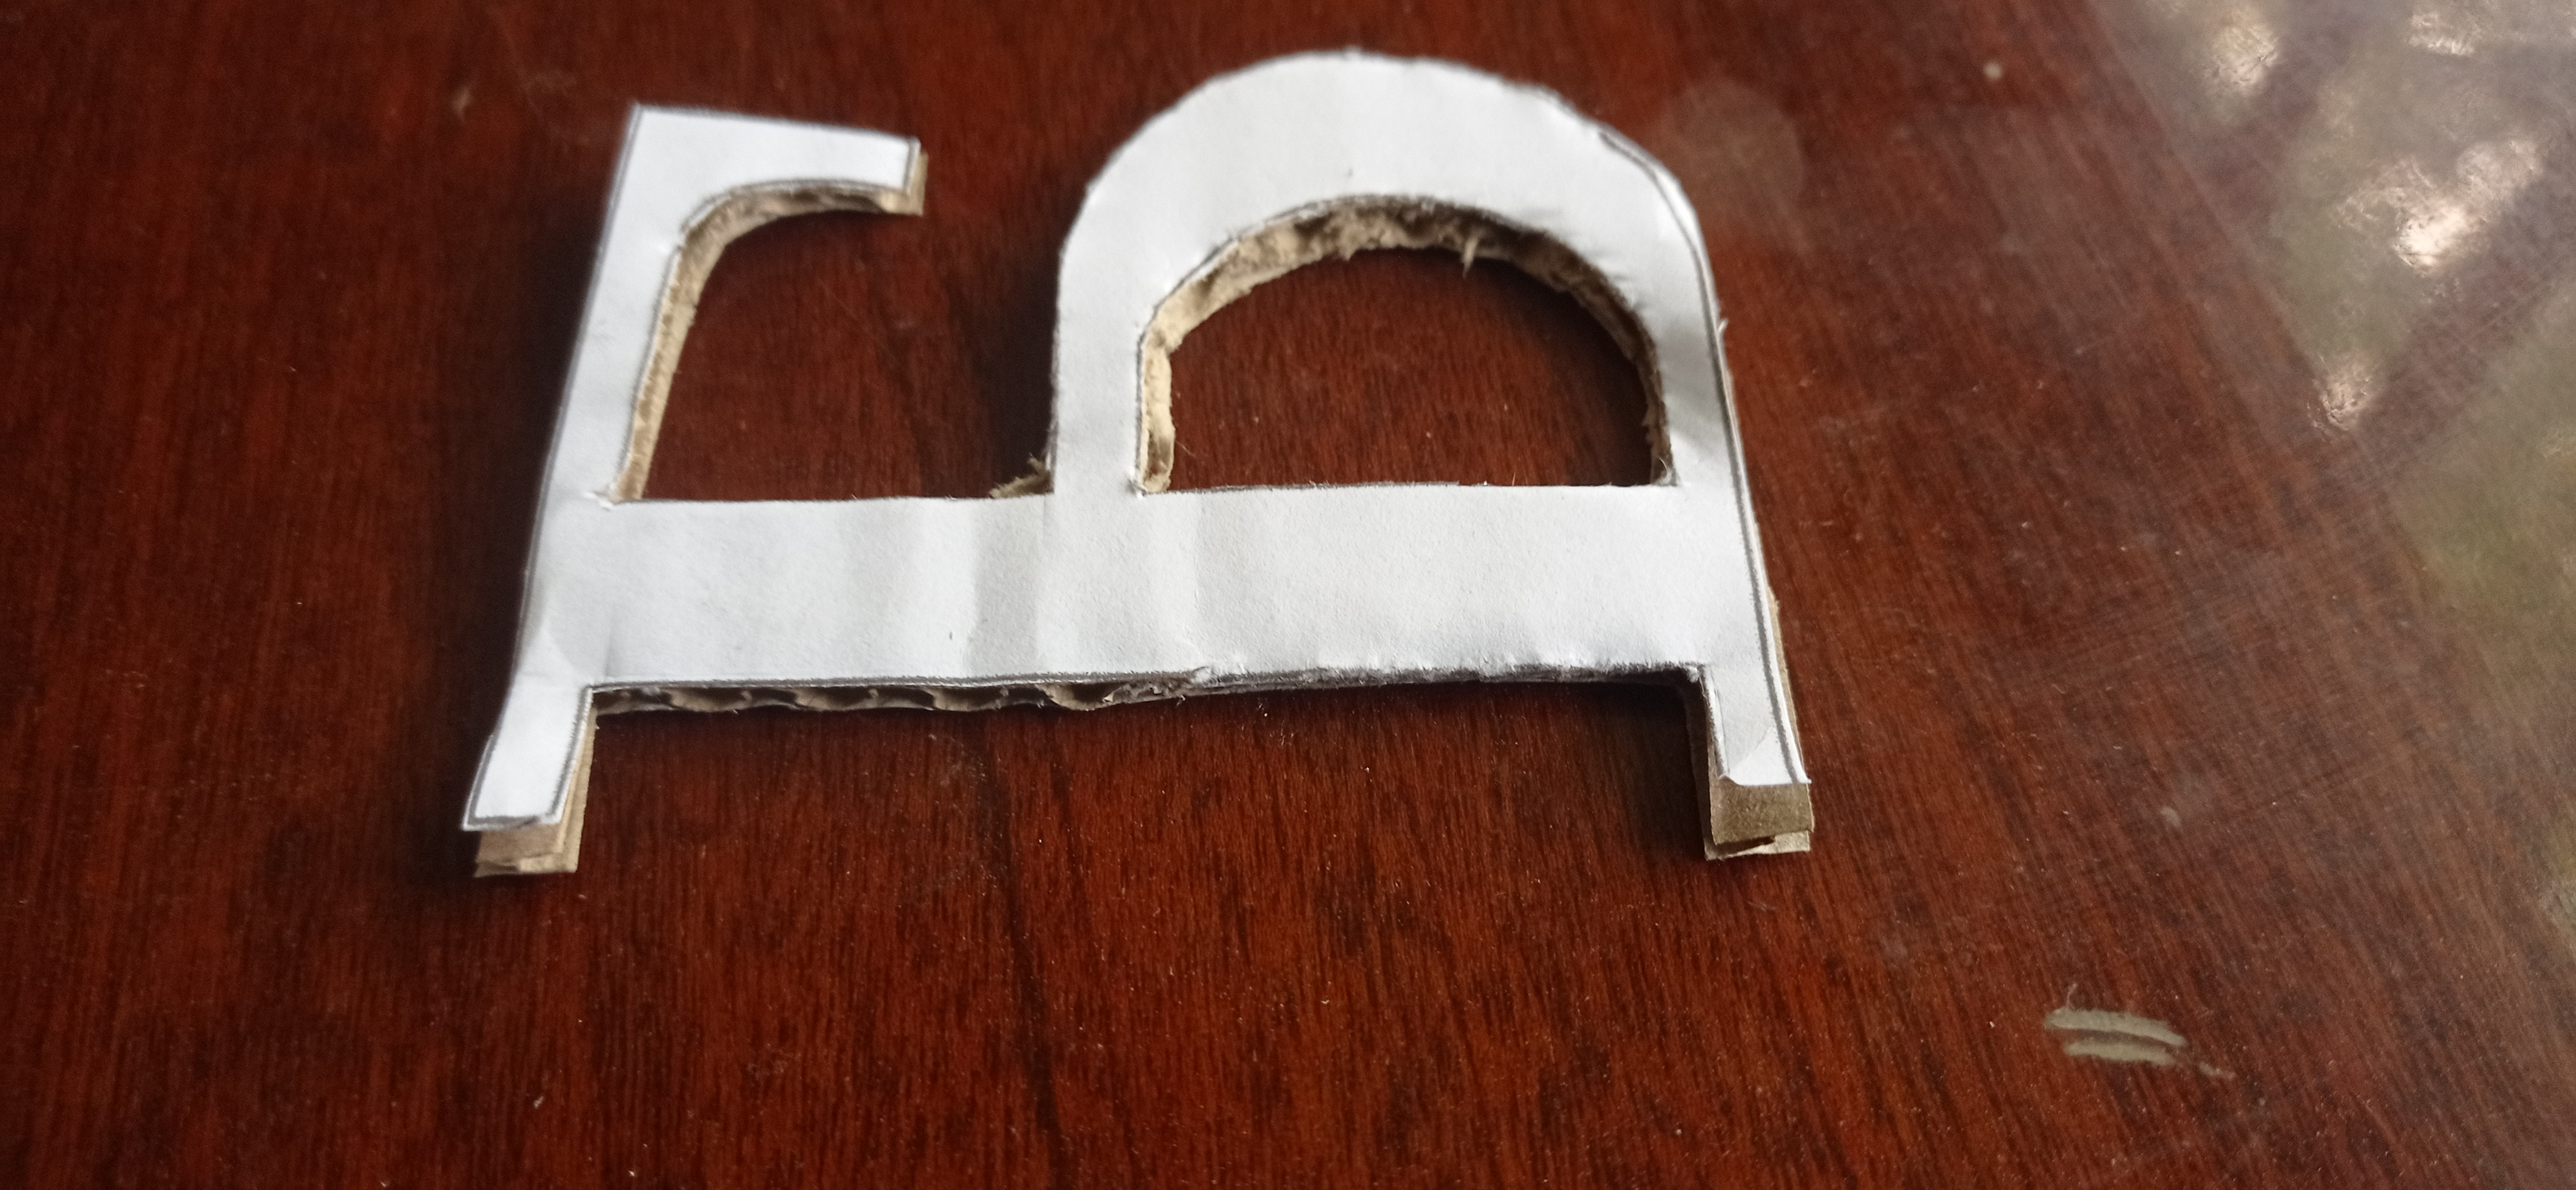b: (452, 48, 1817, 871)
